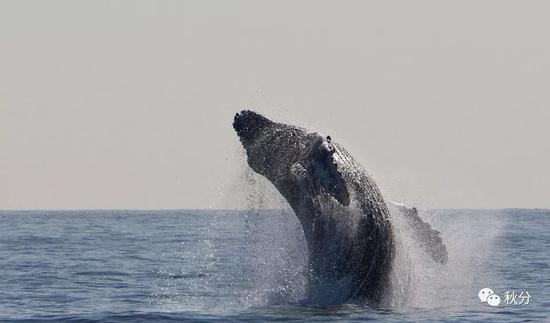fish: (230, 106, 455, 307)
